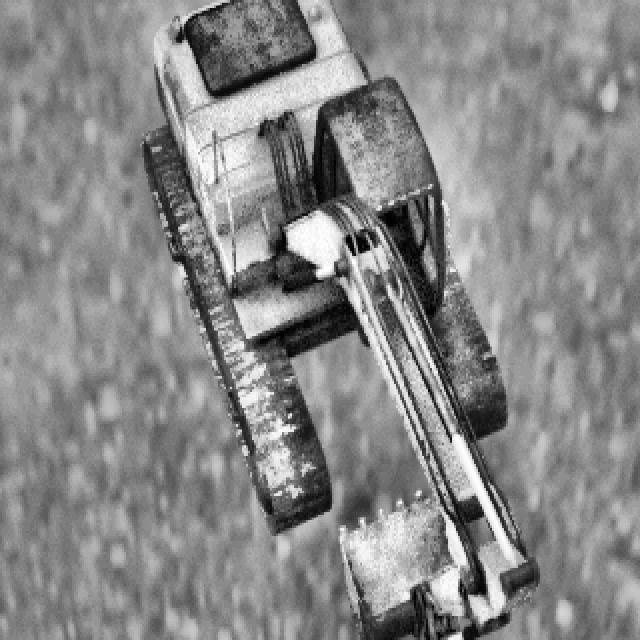excavator: (140, 0, 538, 640)
